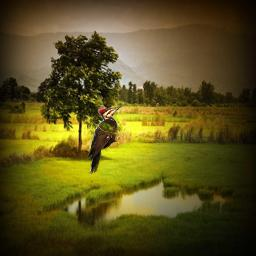Woodpecker: (87, 104, 124, 175)
